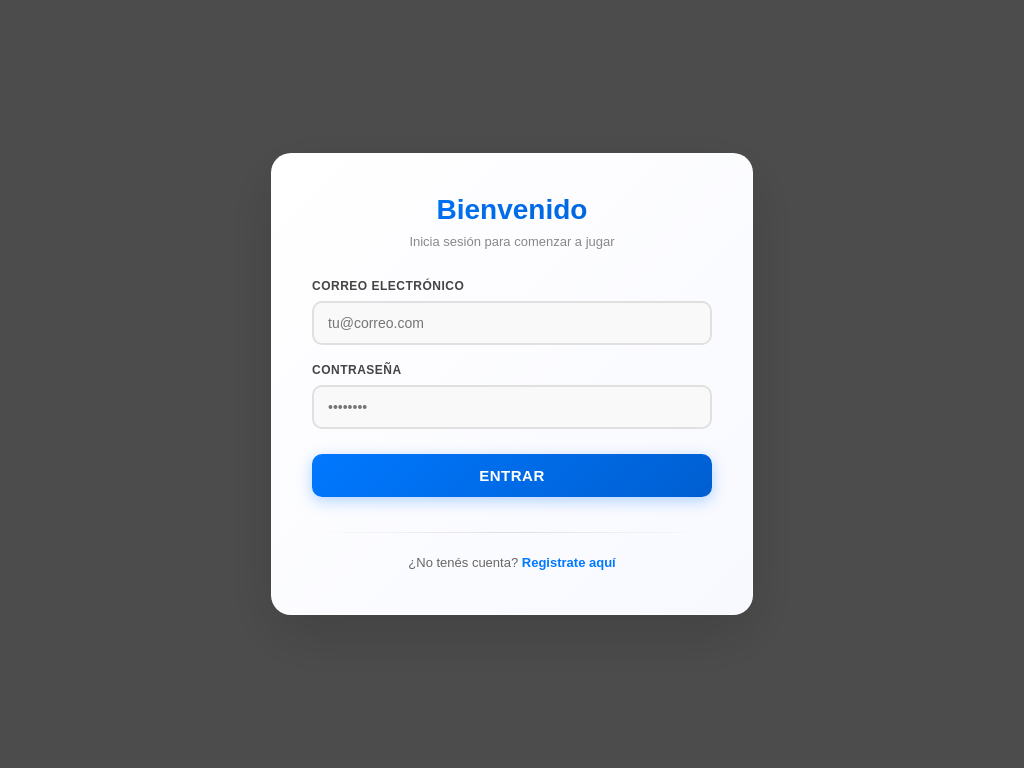
it: ModalUsuario (Login/Registro) › cambia de nuevo al modo de inicio de sesión cuando se hace clic en "Inicia sesión"
Click the text "Registrate aquí": [569, 563] box [522,555,616,570]
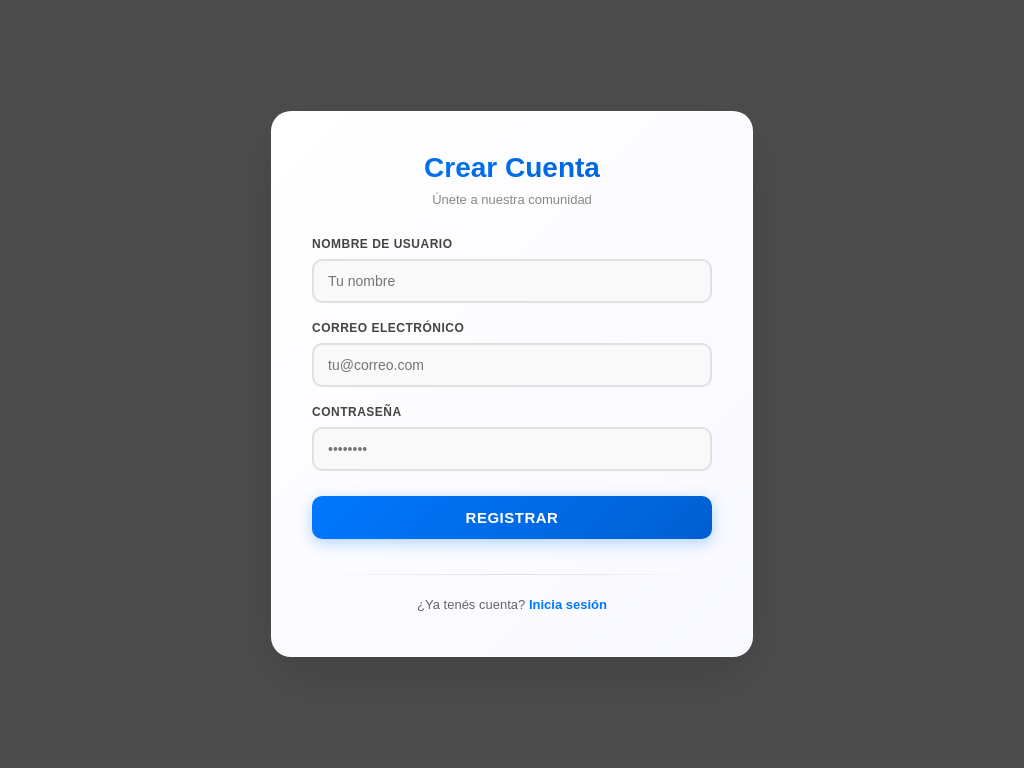
Expected: the button "Registrar" is shown, [312,496,712,539]
Click the text "Inicia sesión": [568, 605] box [529,597,607,612]
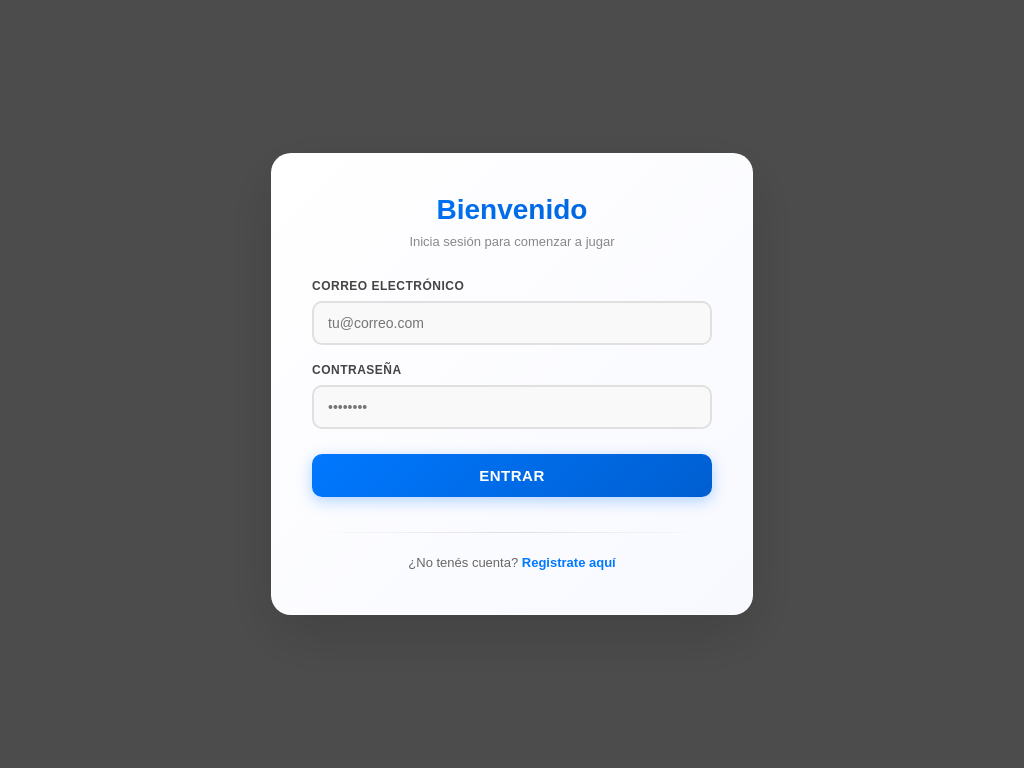
Expected: the button "Entrar" is shown, [312,454,712,497]
Expected: the label labelled "Nombre de usuario" is gone
